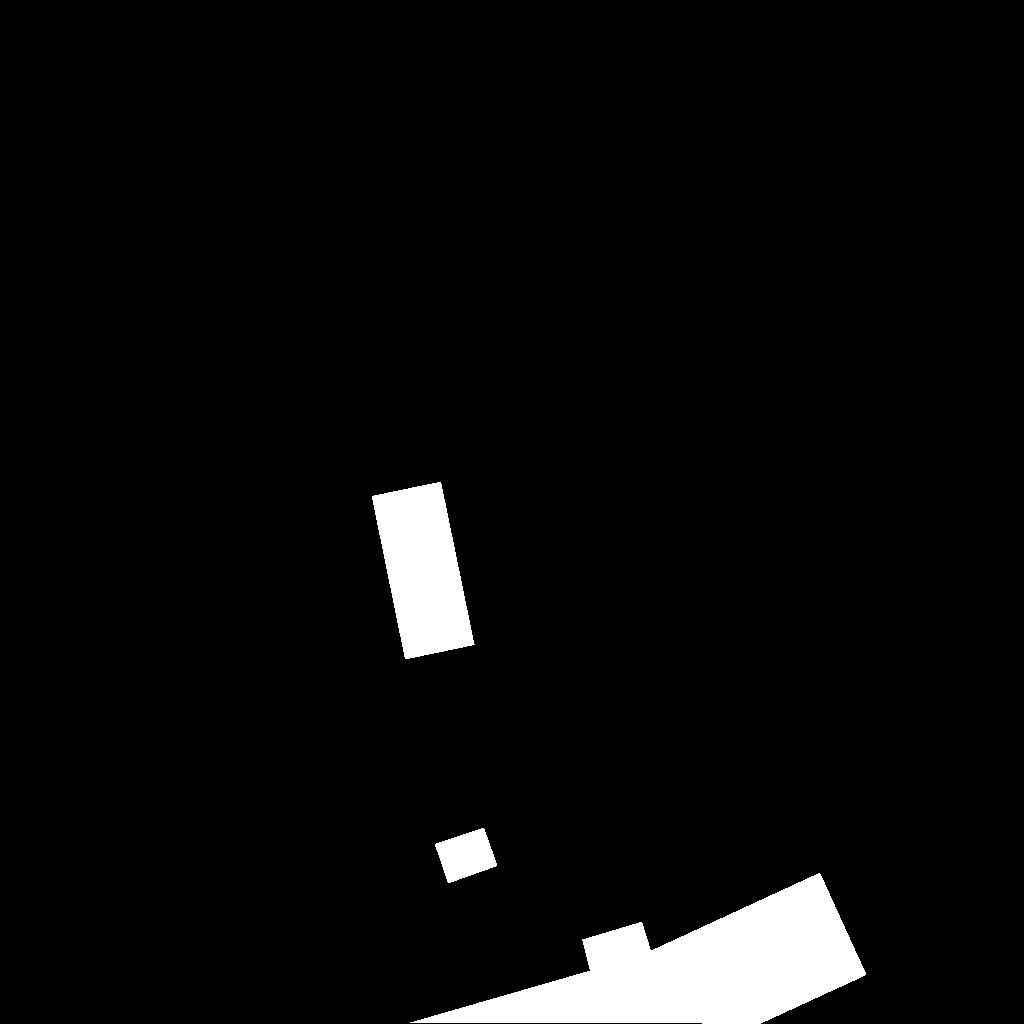building: (409, 873, 867, 1024), (372, 482, 475, 660), (435, 828, 498, 884)
